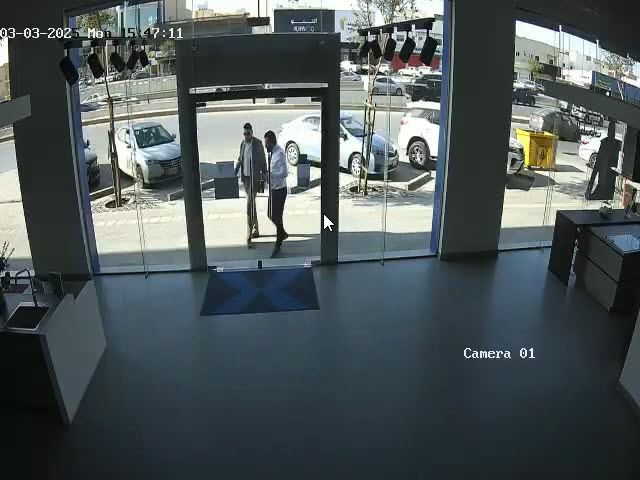employee: (264, 130, 289, 254)
male: (234, 122, 268, 247)
